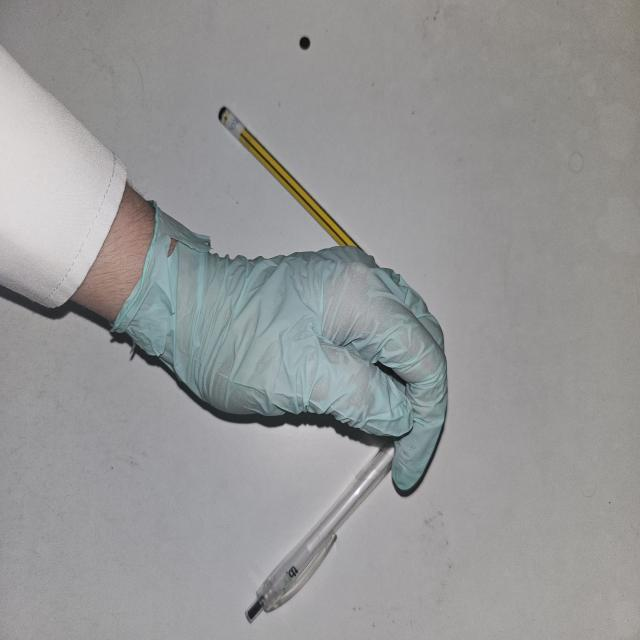gloves_damaged: (109, 201, 448, 491)
